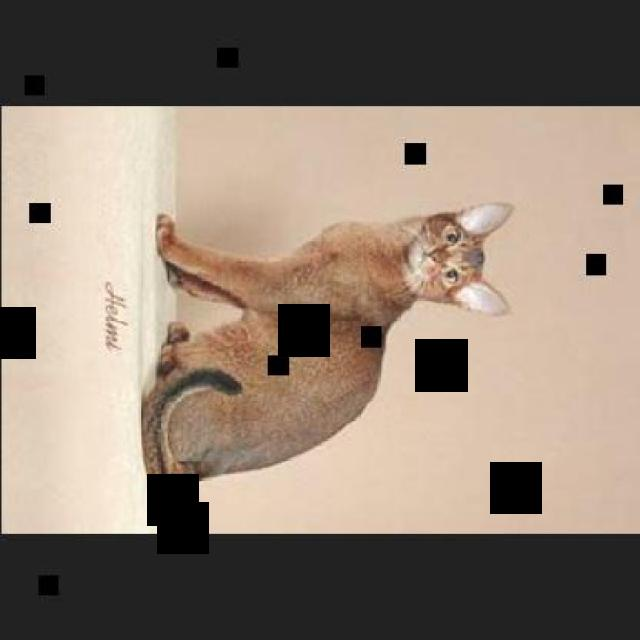unauthorized: (138, 200, 514, 497)
